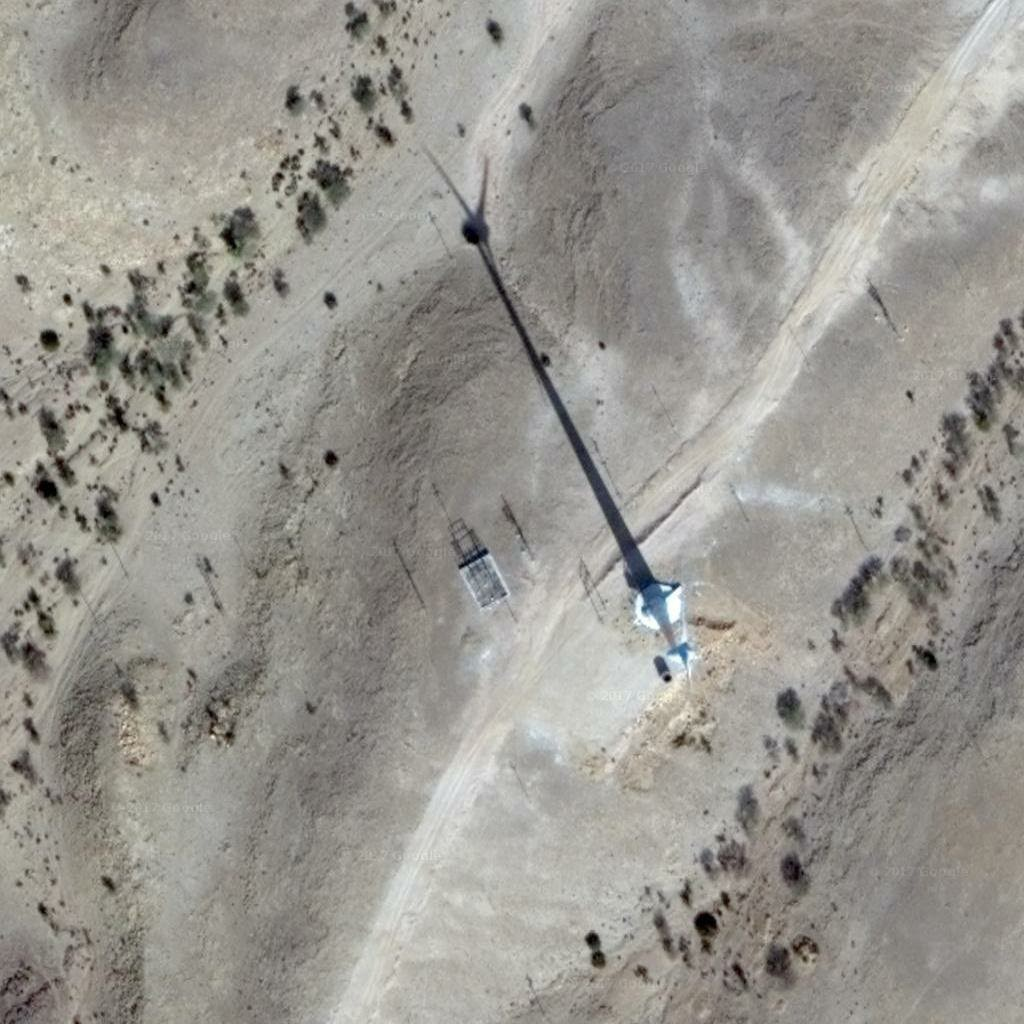Windmill: (425, 153, 658, 582)
